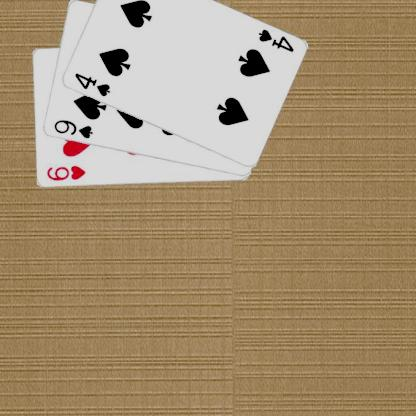4S: (255, 26, 295, 54), (72, 71, 111, 98)
6H: (44, 163, 86, 182)
9S: (51, 117, 94, 140)
